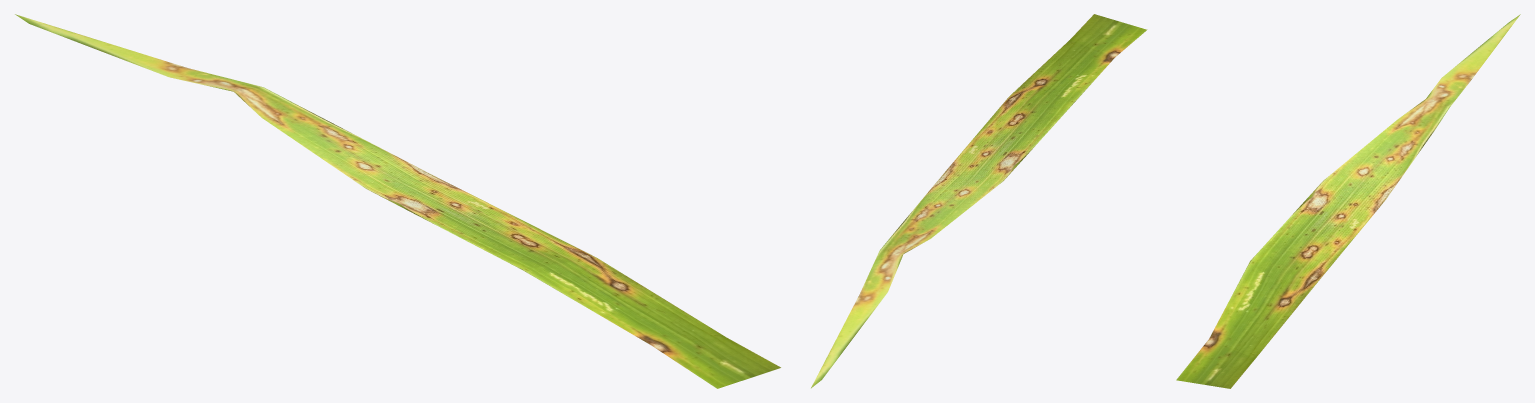
The model's file is pyri.fbx.
The picture shows the model from 3 angles, left to right: view 1: azimuth 30°, elevation 25°; view 2: azimuth 150°, elevation 25°; view 3: azimuth 330°, elevation 25°; orthographic projection. The views are drawn at different scales.
Parts seen in each view (by area): view 1: pyri2.001, pyri2; view 2: pyri2.001, pyri2; view 3: pyri2.001, pyri2.
Part boxes in pixels (x1,y1,x2,y2): pyri2.001: (15, 14, 595, 269); pyri2: (523, 257, 780, 388); pyri2.001: (811, 96, 1074, 388); pyri2: (1009, 14, 1147, 101); pyri2.001: (1250, 14, 1520, 281); pyri2: (1176, 261, 1317, 388).
Bounding box in the file's own units: 19.96 × 2.95 × 93.49.
1 material, 1 textured.
